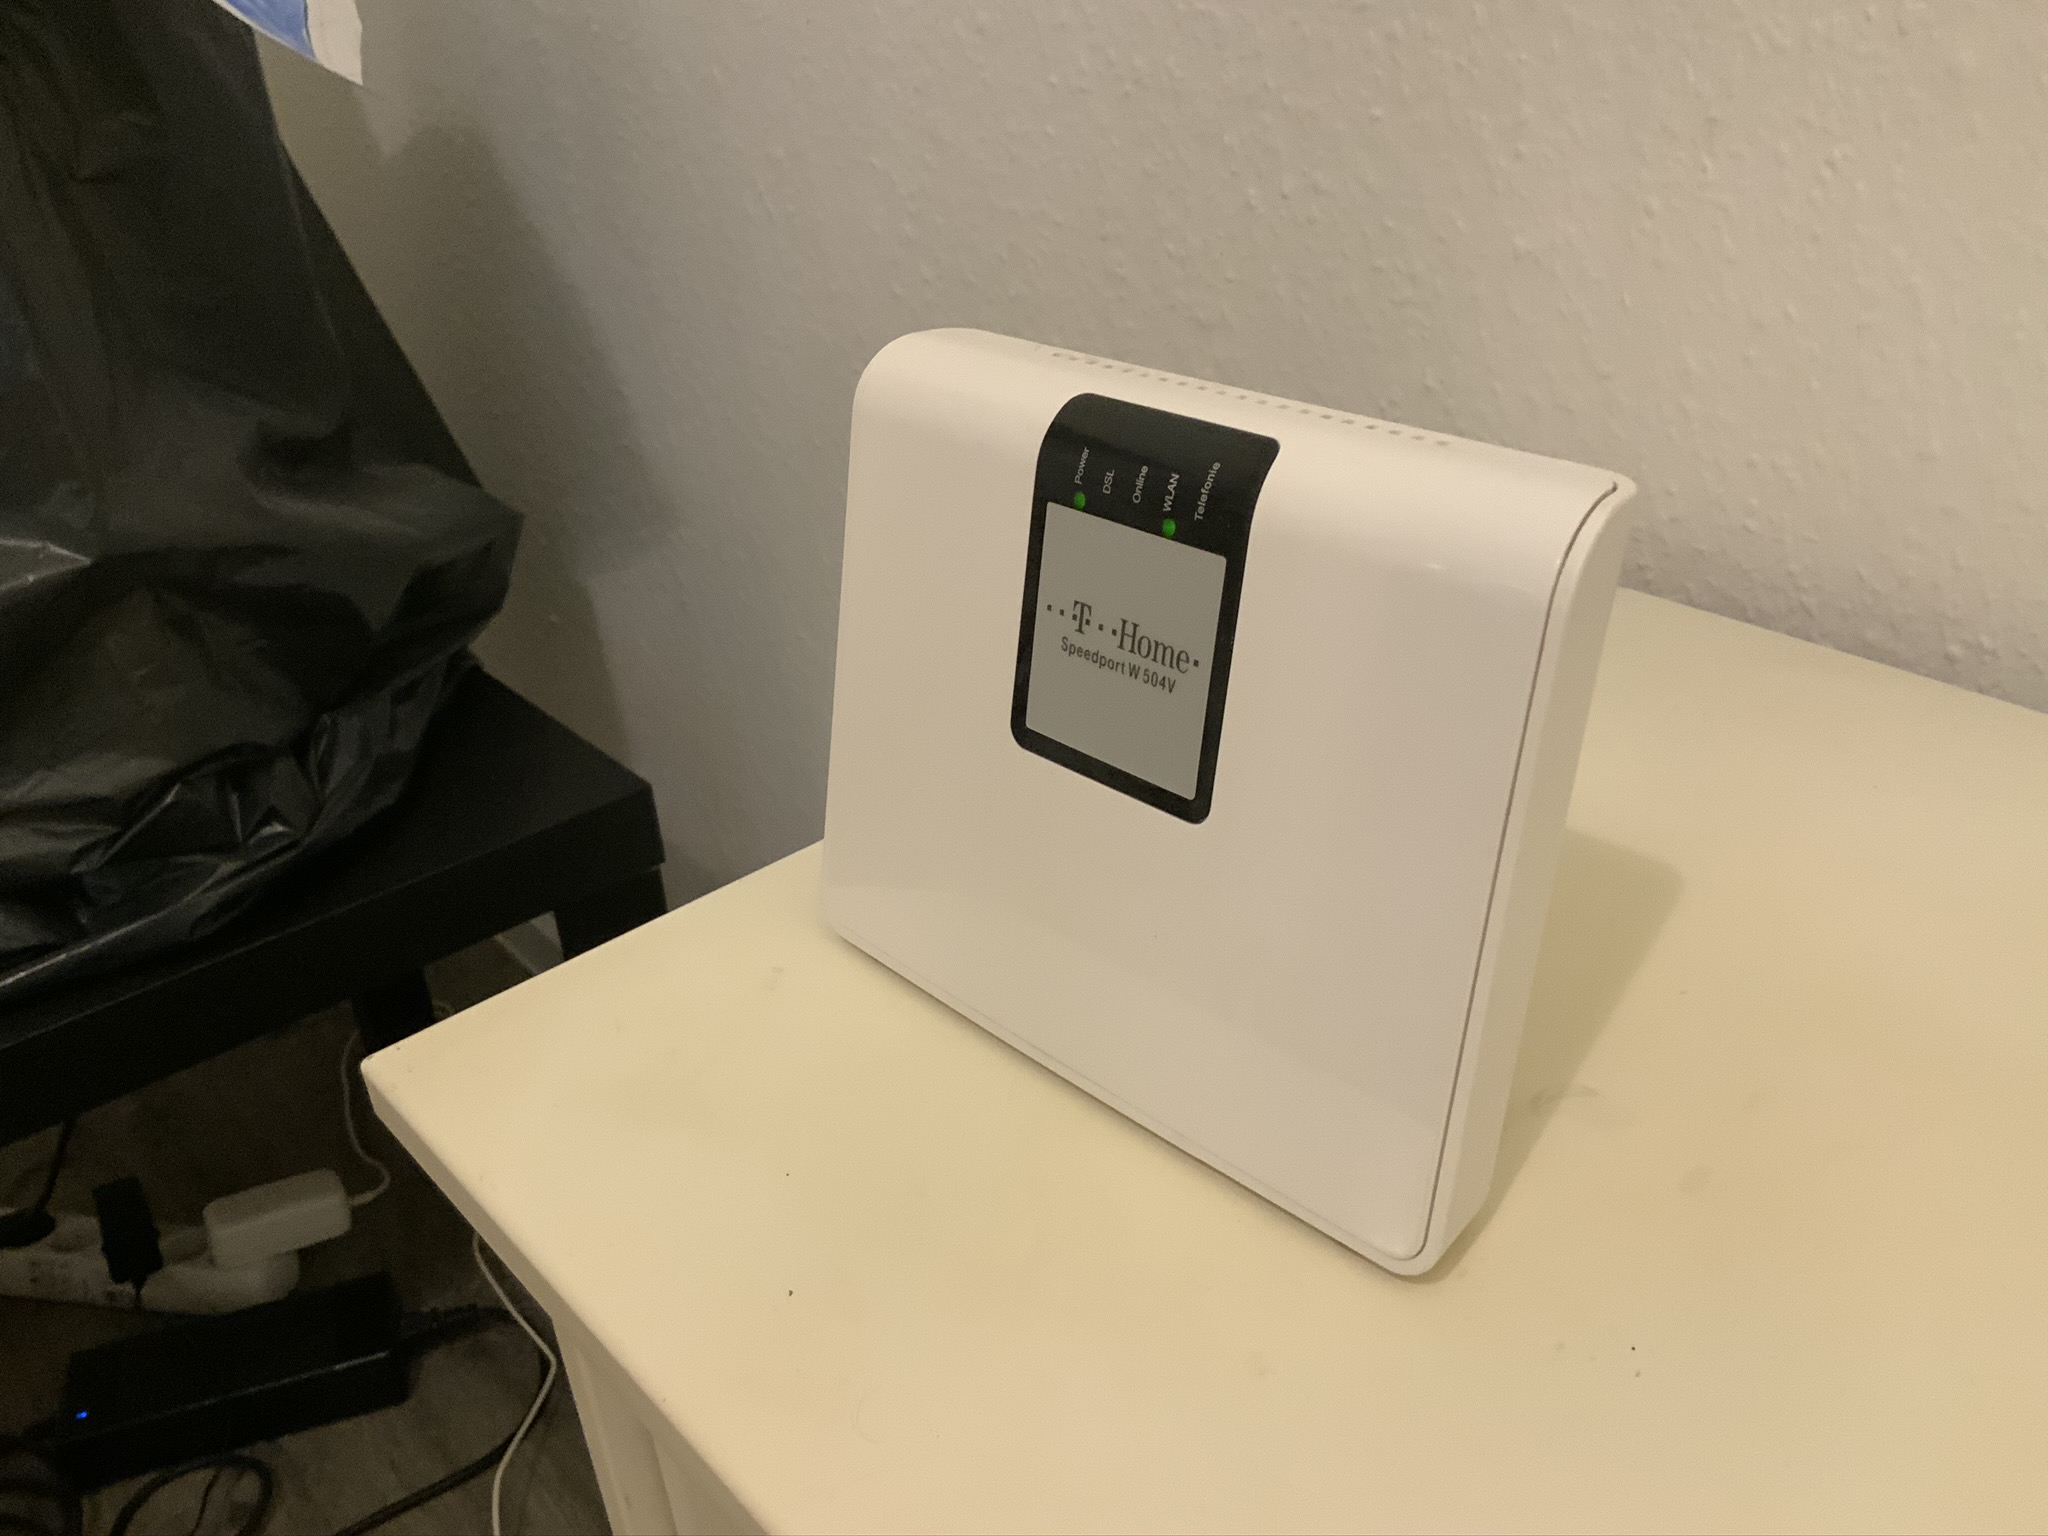Router2: (814, 311, 1646, 1291)
